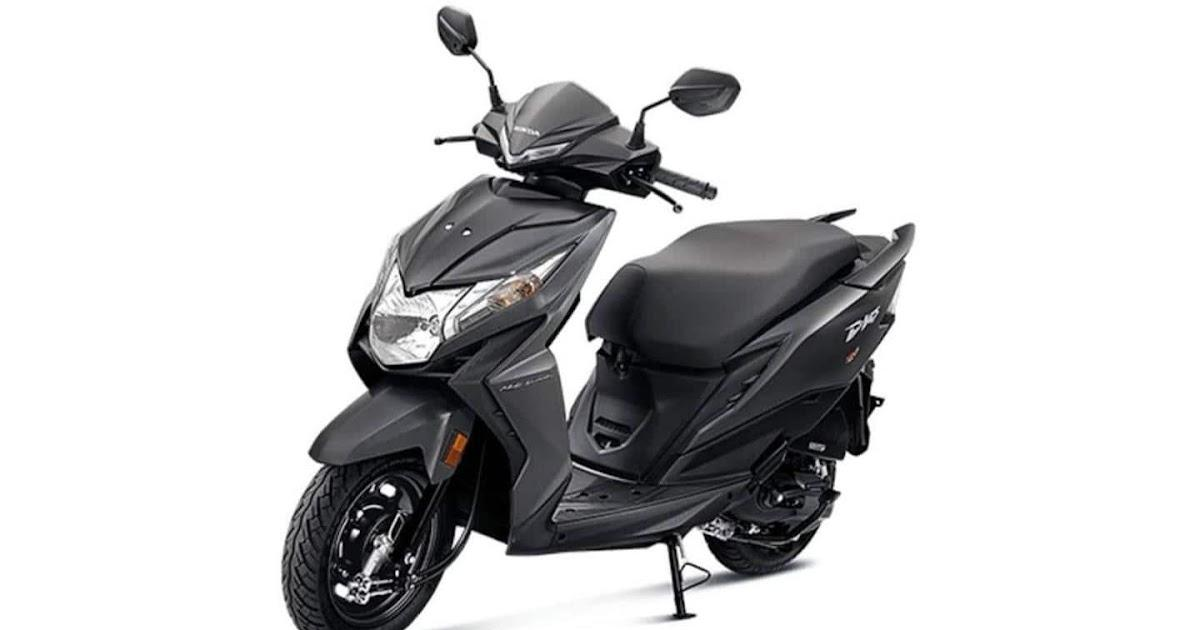motorbike: (281, 7, 916, 630)
